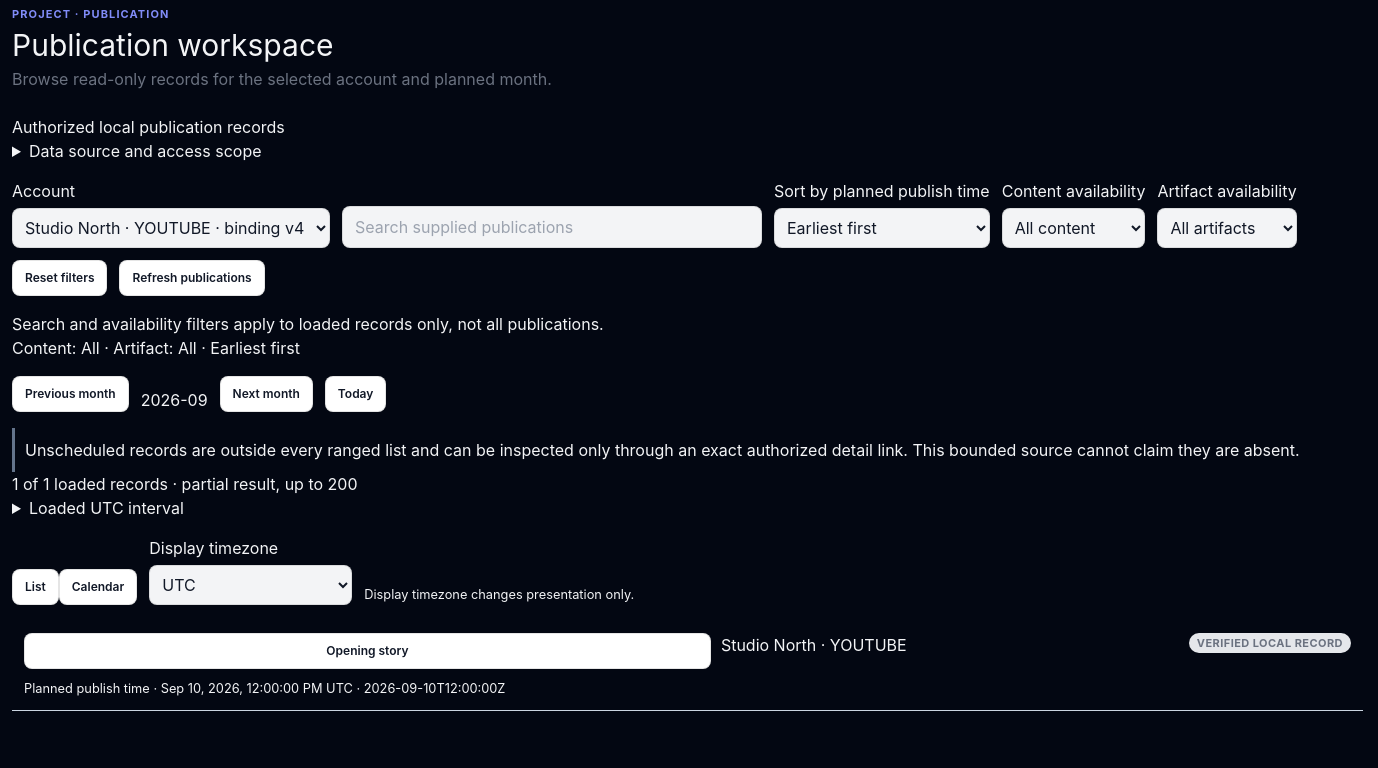
Scenario: authorized Publication workspace › retains valid same-source data during refresh and after a transient failure
Expected: the button "Opening story" is shown, [24,632,711,668]
Click the button "Refresh publications" at (192, 278), box [120,260,265,296]
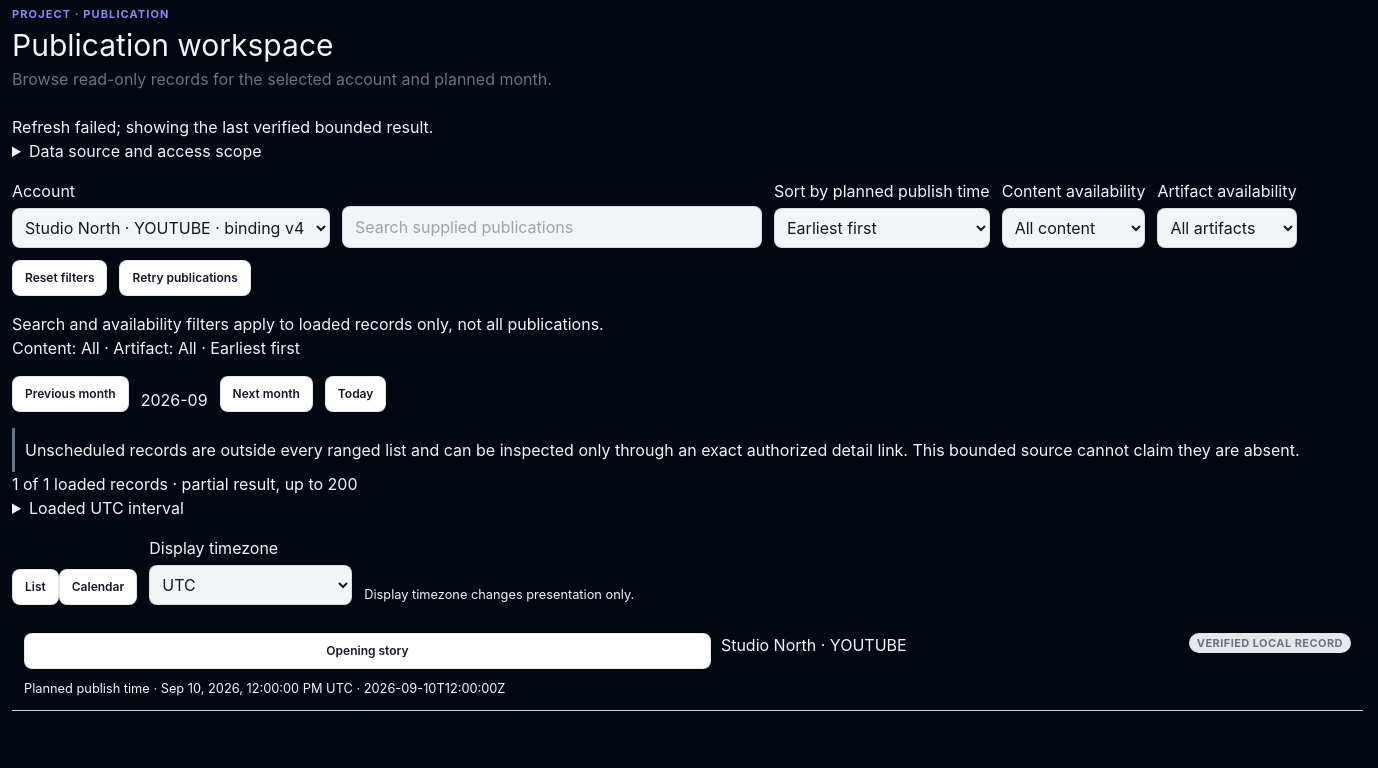
Expected: the button "Opening story" is shown, [24,632,711,668]
Expected: the text "Refresh failed; showing the last verified bounded result." is shown, [12,116,433,136]
